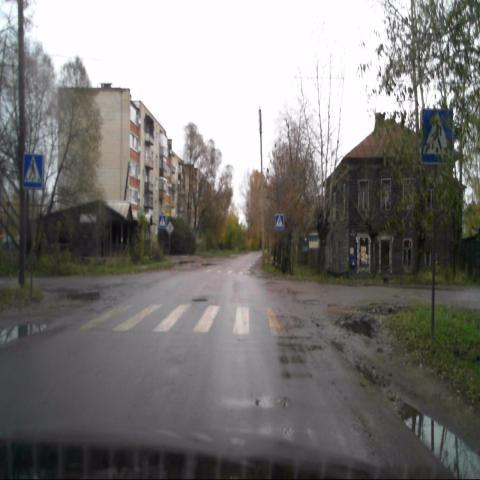5_19_1: (420, 106, 454, 166)
